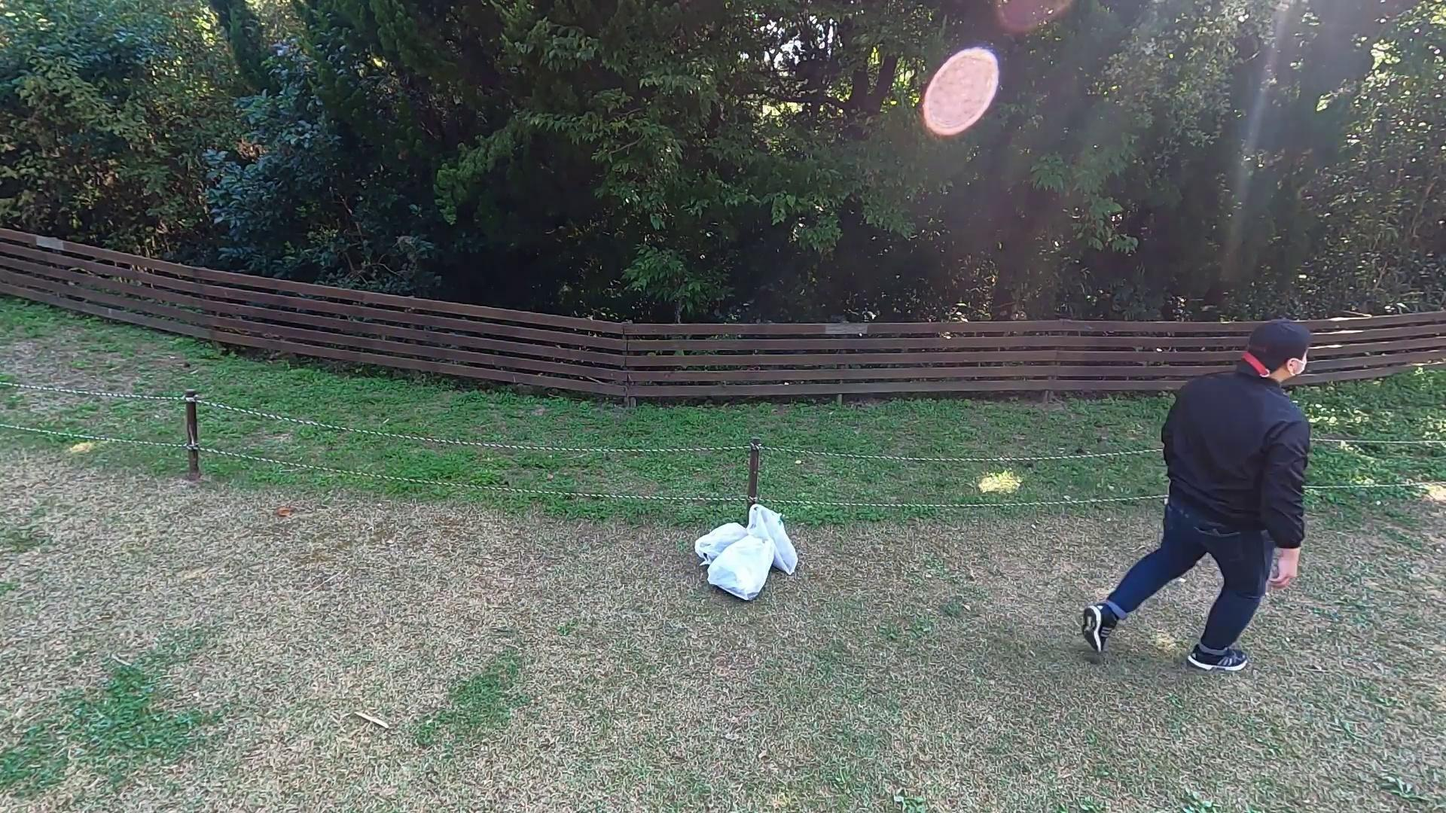person: (1081, 318, 1309, 679)
trash: (709, 534, 775, 600), (744, 502, 799, 577), (694, 520, 750, 570)
